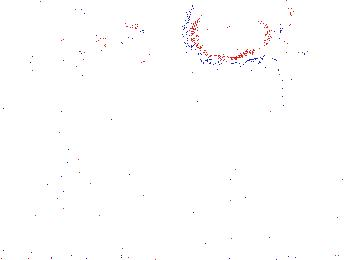moon jellyfish: (187, 1, 281, 64), (254, 41, 316, 125), (69, 1, 151, 55), (1, 5, 64, 74)
